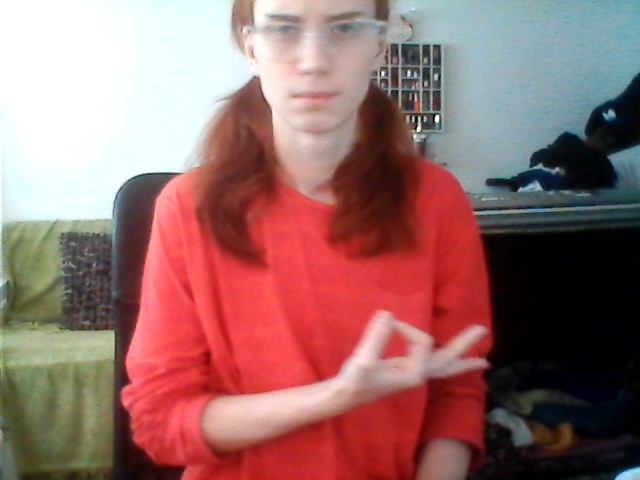co: (334, 304, 498, 405)
